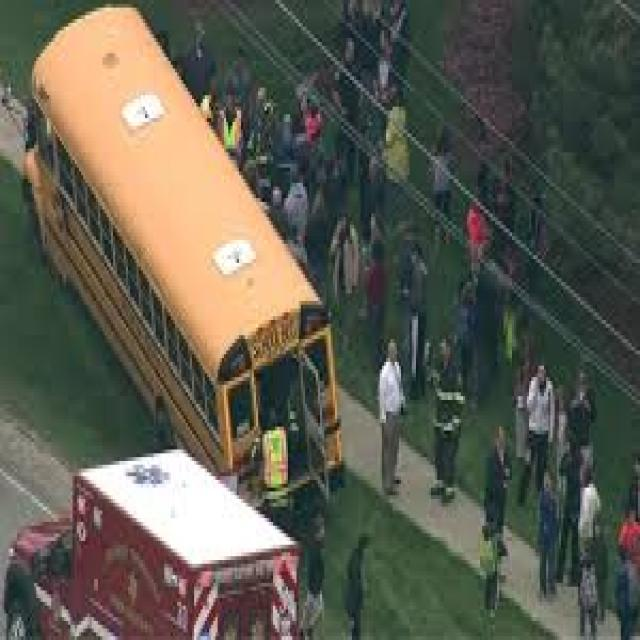accident: (18, 6, 344, 566)
